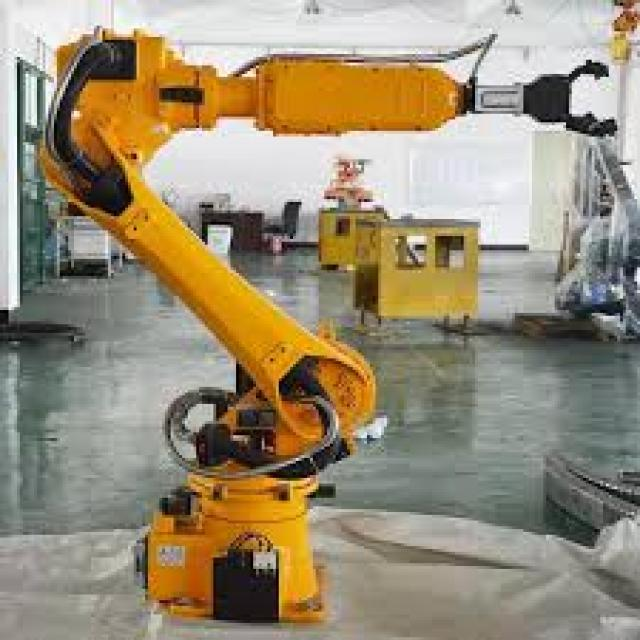Robotic-arm: (48, 27, 620, 640)
